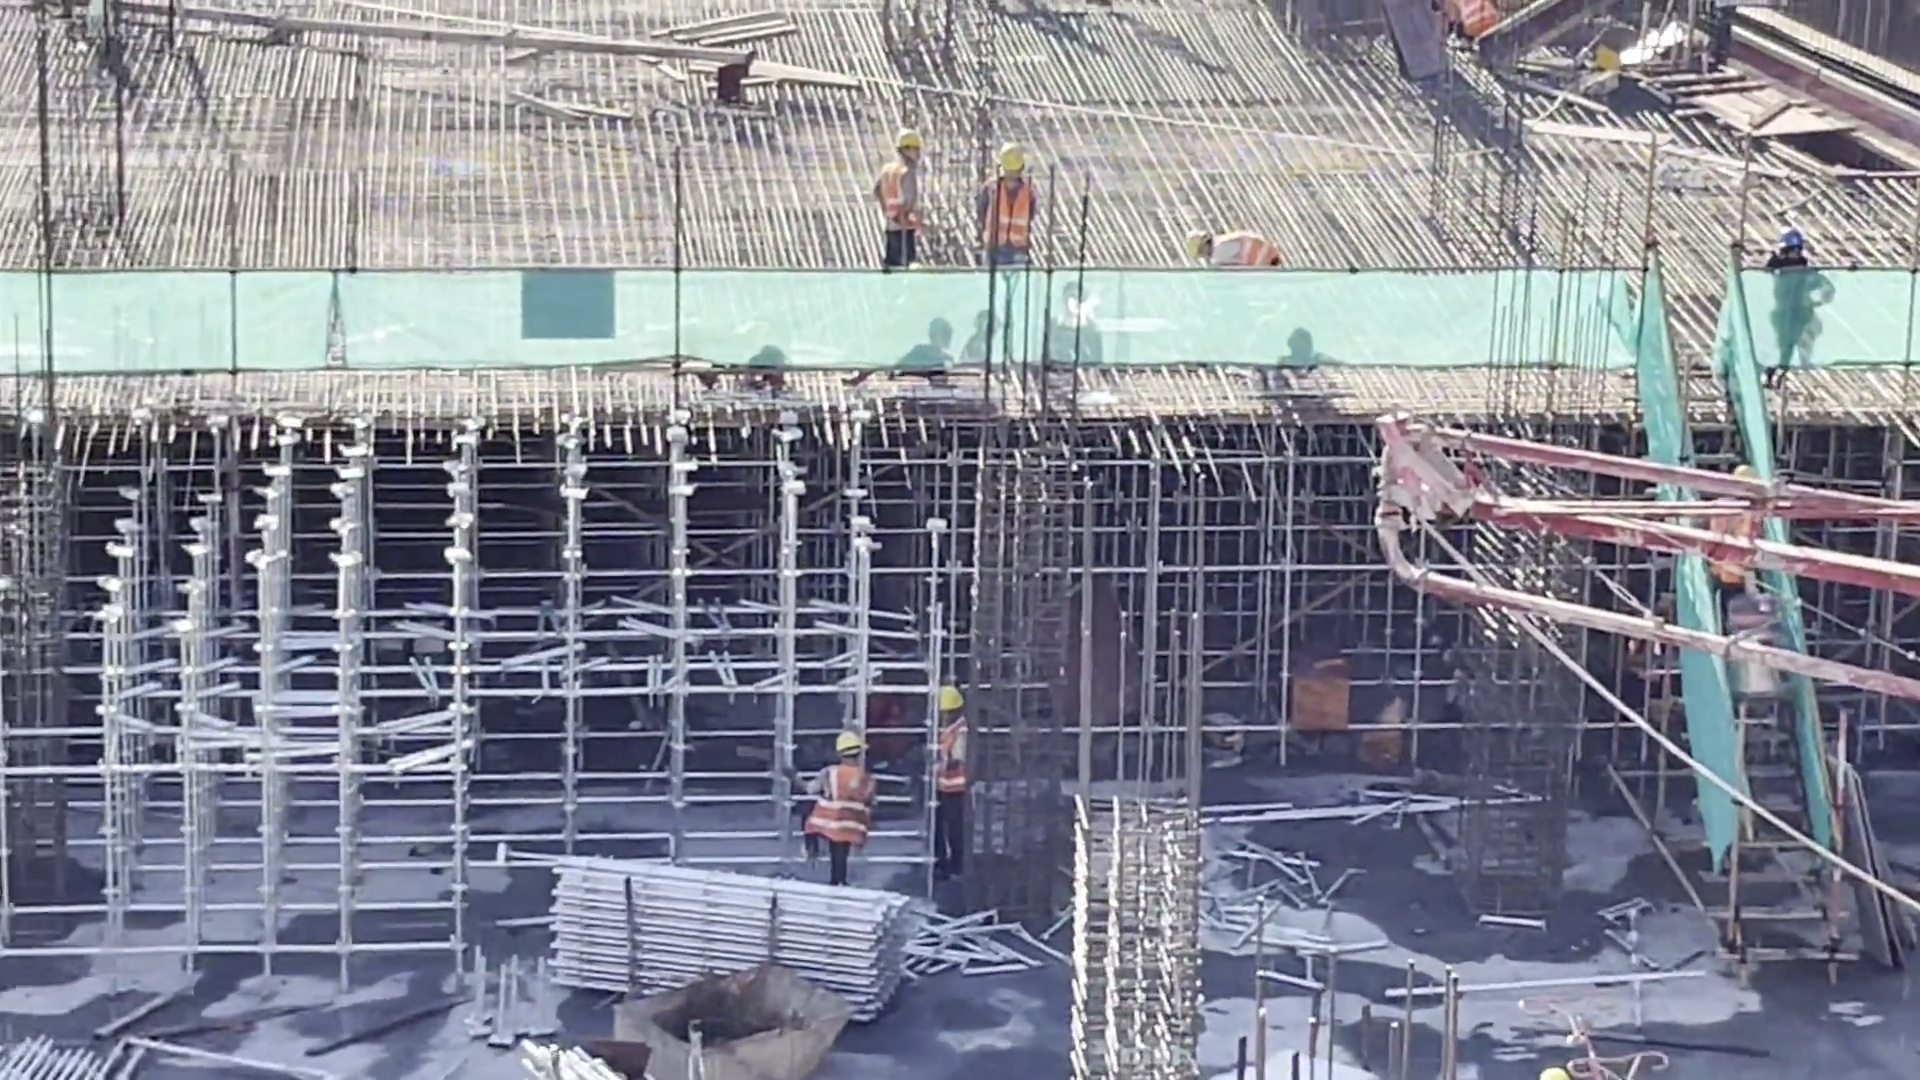helmet: (993, 138, 1040, 190), (1784, 223, 1818, 283), (1171, 222, 1212, 265), (932, 686, 975, 722), (895, 138, 932, 178), (1729, 453, 1755, 490), (836, 731, 871, 757)
person: (1701, 453, 1777, 669), (917, 674, 991, 878), (1770, 232, 1854, 393), (806, 734, 878, 882), (982, 145, 1047, 306), (1180, 228, 1299, 311), (869, 123, 917, 304)
scaffold: (548, 843, 906, 1027)
vest: (808, 765, 866, 869), (1696, 501, 1748, 583), (879, 160, 932, 230), (1215, 224, 1275, 284), (982, 177, 1033, 248), (931, 726, 971, 816)
